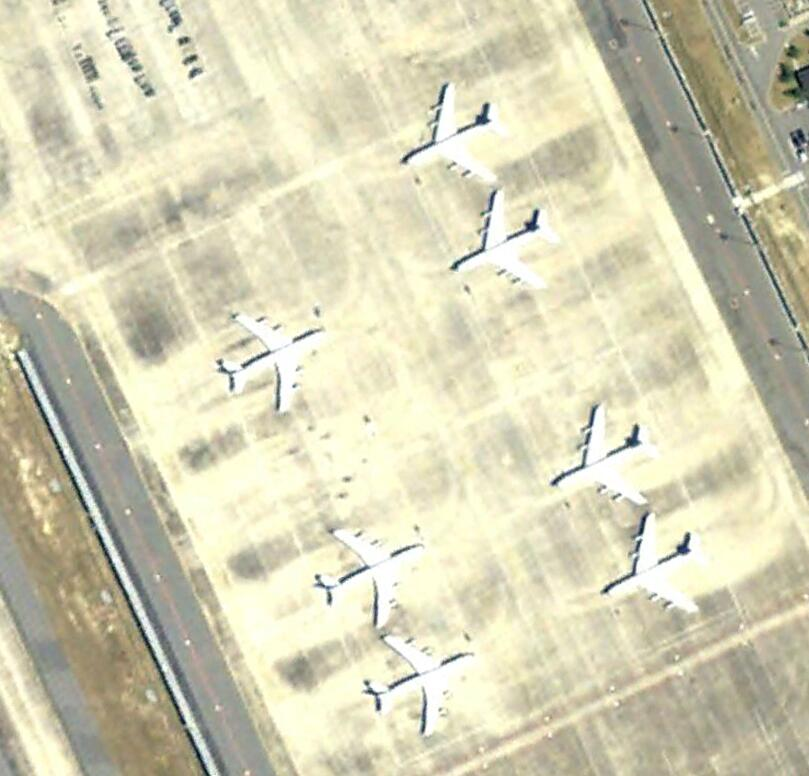A11: (364, 634, 477, 736), (452, 188, 561, 291), (316, 528, 426, 630), (553, 403, 655, 507), (221, 311, 326, 412), (407, 82, 508, 185), (605, 513, 701, 614)
